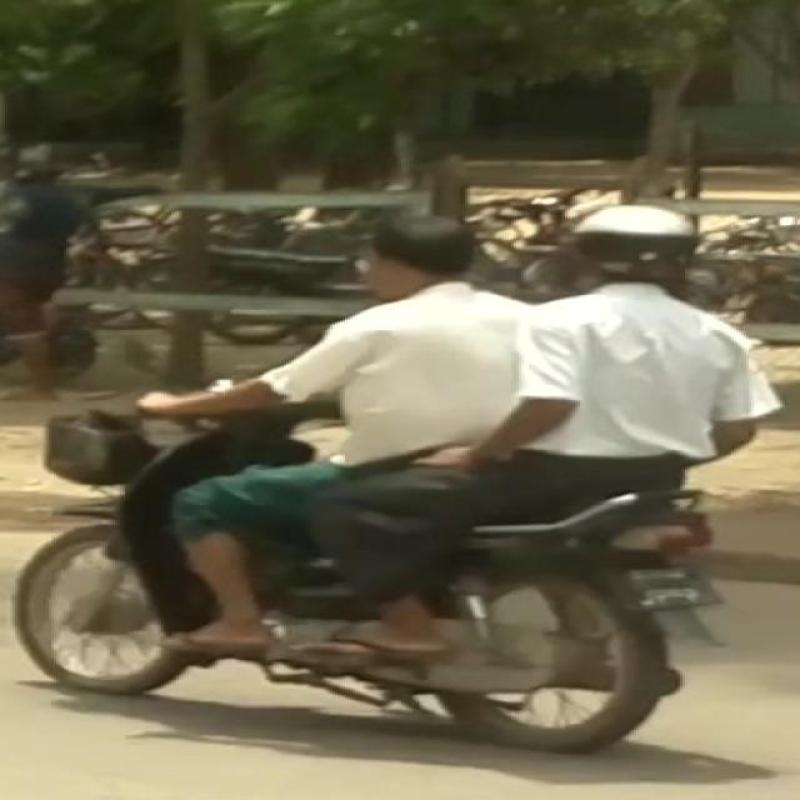nohelmet: (344, 189, 500, 287)
